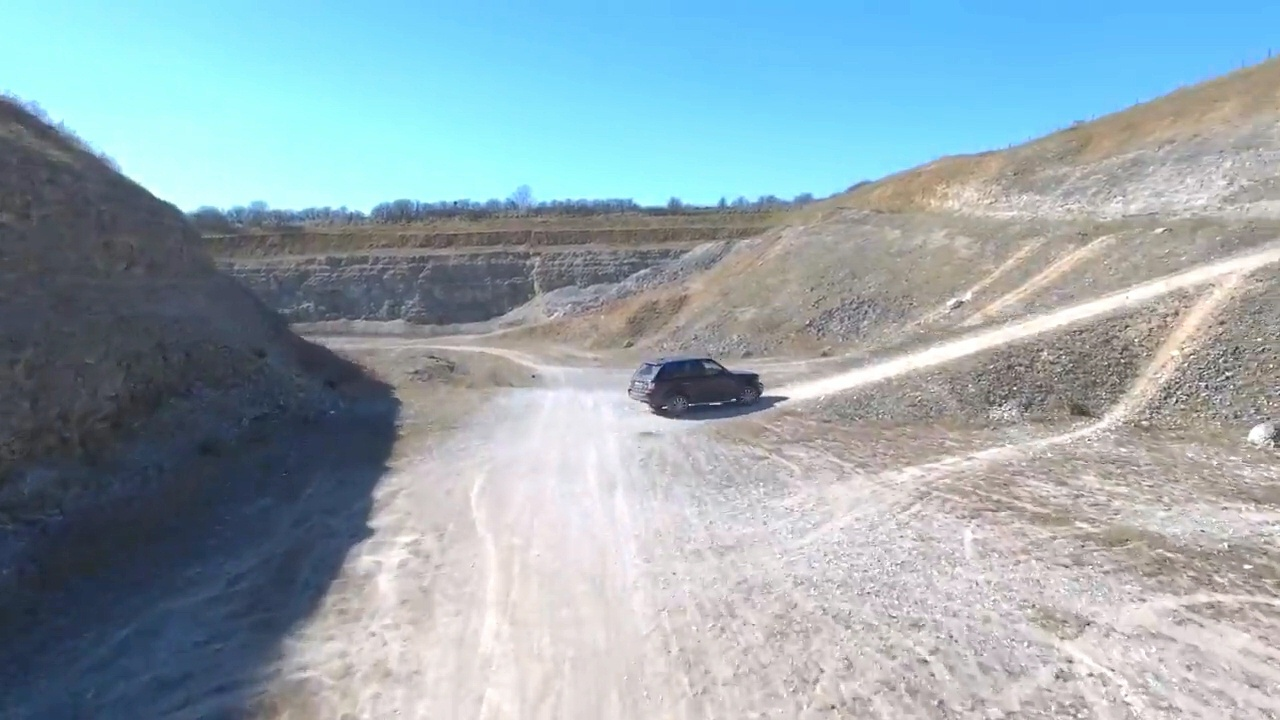araba: (625, 352, 767, 415)
